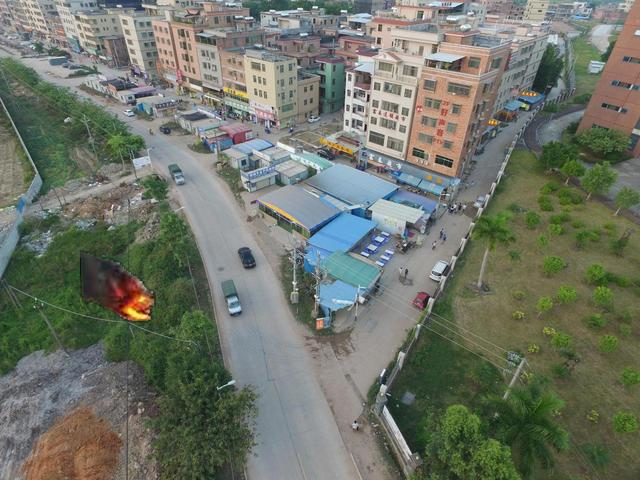fire: (80, 251, 154, 321)
